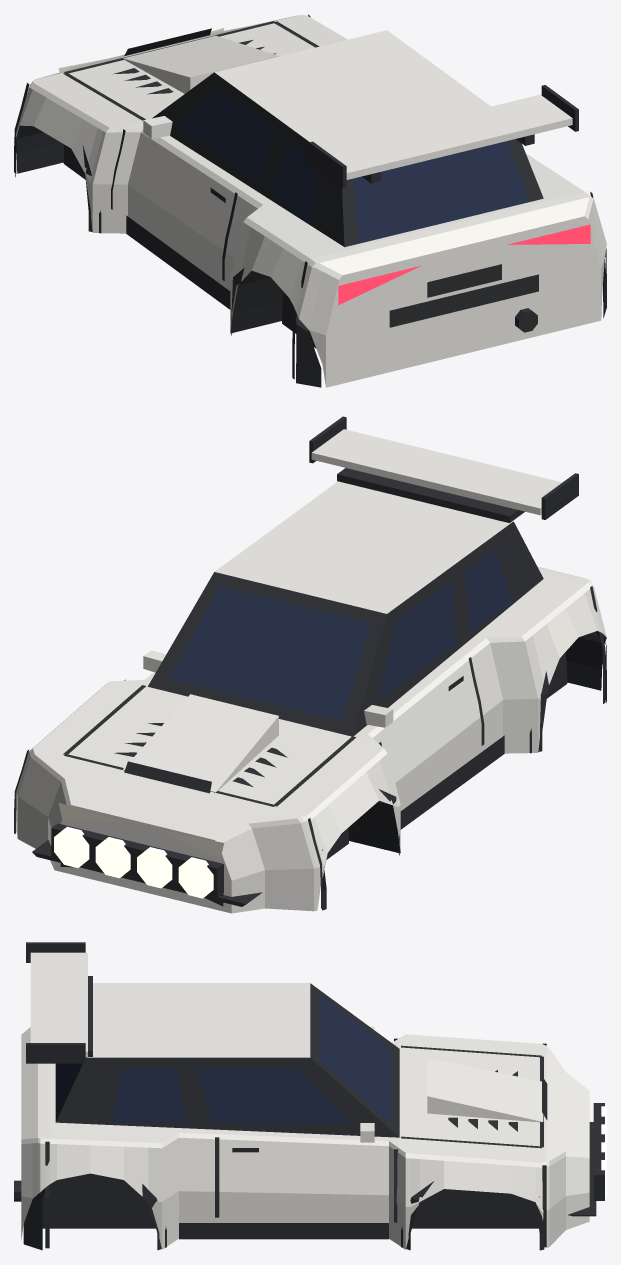
The model's file is Kaze.fbx.
The picture shows the model from 3 angles, top to bottom: view 1: azimuth 30°, elevation 25°; view 2: azimuth 150°, elevation 25°; view 3: azimuth 270°, elevation 25°; orthographic projection. The views are drawn at different scales.
Visible parts, largest first — view 1: BumperRear, Roof, Door_FL, RearWindow, Opt_Wing_Rally_WingBlade, Pillars, Hood, Fender_FL, Cowl, Fender_RL, Window_FL, Opt_Hood_Scoop_HoodScoop (+15 smaller); view 2: BumperFront, Roof, Windshield, Hood, Pillars, Fender_RL, Door_FL, Opt_Wing_Rally_WingBlade, Opt_Hood_Scoop_HoodScoop, Fender_FL, Window_FL, Opt_Bumper_Lamps_RallyLamp (+11 smaller); view 3: Roof, Door_FR, Pillars, Hood, Fender_RR, WheelWell, BumperFront, Window_FR, Fender_FR, Opt_Hood_Scoop_HoodScoop, Opt_Wing_Rally_WingBlade, Windshield (+12 smaller).
Boxes of the visible parts, x1,y1,x2,y2 form: BumperRear: (296, 193, 606, 387); Roof: (215, 30, 490, 147); Door_FL: (107, 127, 242, 287); RearWindow: (354, 141, 529, 243); Opt_Wing_Rally_WingBlade: (322, 94, 572, 179); Pillars: (152, 72, 543, 247); Hood: (33, 15, 347, 127); Fender_FL: (16, 80, 123, 233); Cowl: (125, 123, 583, 258); Fender_RL: (226, 192, 312, 330); Window_FL: (178, 89, 275, 182); Opt_Hood_Scoop_HoodScoop: (121, 35, 278, 93); BumperFront: (17, 752, 317, 913); Roof: (214, 481, 513, 613); Windshield: (168, 586, 370, 720); Hood: (33, 680, 383, 816); Pillars: (148, 521, 543, 736); Fender_RL: (466, 583, 603, 753); Door_FL: (368, 655, 482, 810); Opt_Wing_Rally_WingBlade: (311, 429, 562, 515); Opt_Hood_Scoop_HoodScoop: (121, 694, 278, 794); Fender_FL: (301, 749, 400, 909); Window_FL: (377, 579, 455, 700); Opt_Bumper_Lamps_RallyLamp: (54, 826, 213, 898); Roof: (88, 983, 310, 1057); Door_FR: (214, 1134, 398, 1244); Pillars: (55, 983, 399, 1137); Hood: (398, 1034, 546, 1162); Fender_RR: (45, 1132, 214, 1249); WheelWell: (23, 1173, 542, 1228); BumperFront: (546, 1046, 589, 1247); Window_FR: (197, 1069, 350, 1123); Fender_FR: (398, 1148, 546, 1249); Opt_Hood_Scoop_HoodScoop: (427, 1058, 546, 1122); Opt_Wing_Rally_WingBlade: (30, 952, 87, 1057); Windshield: (319, 995, 390, 1122).
Bounding box in the file's own units: 666 × 438 × 1241.
